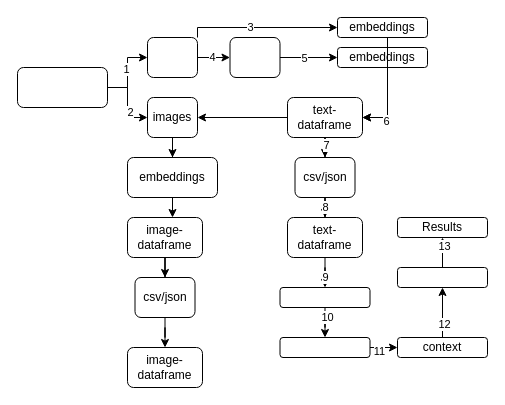
Some shapes in this 505 by 405 pixel diagram are drawn without their labels. The centre of each missing label's shape, as x and y in pixels:
"chunks" goes at (254,57).
"Gemini" goes at (442,277).
"pdf1 pdf2 pdfn" goes at (62,87).
"query" goes at (324,297).
"text" goes at (172,57).
"Top 5 Results" goes at (324,347).
